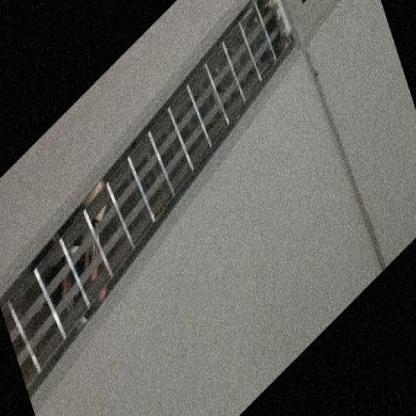light_off: (0, 0, 323, 406)
